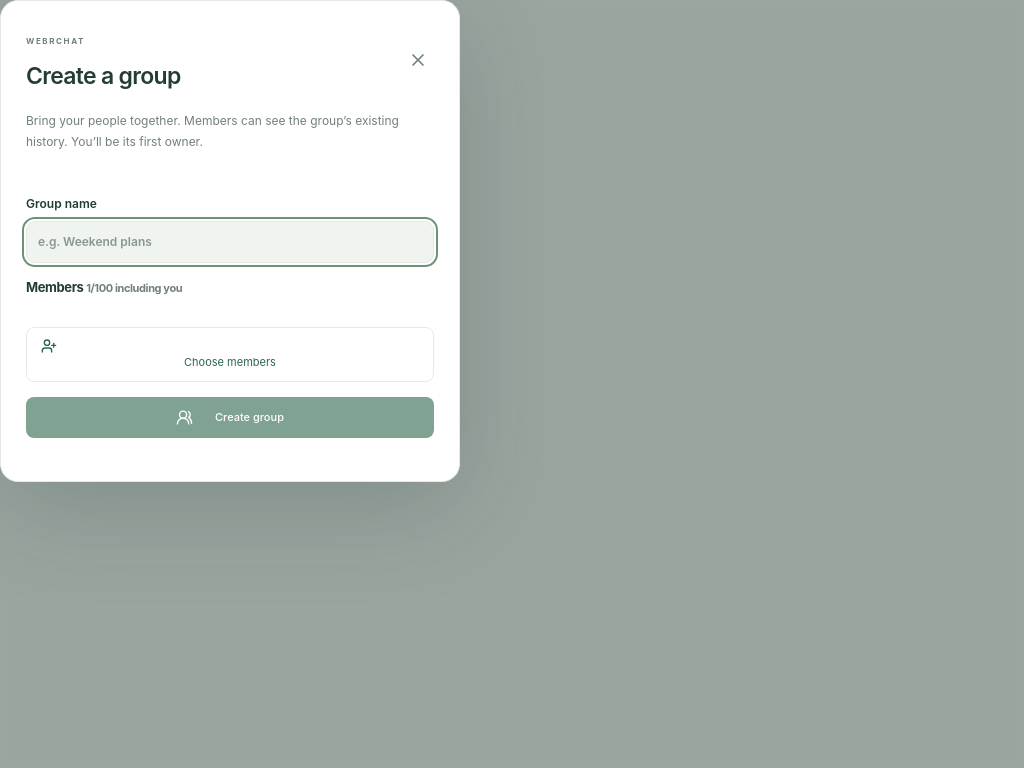
Test: shows creation failures without losing the selected members or name
Step 1. Type "Team" into the field labelled "Group name" → (230,242), box [26,221,434,263]
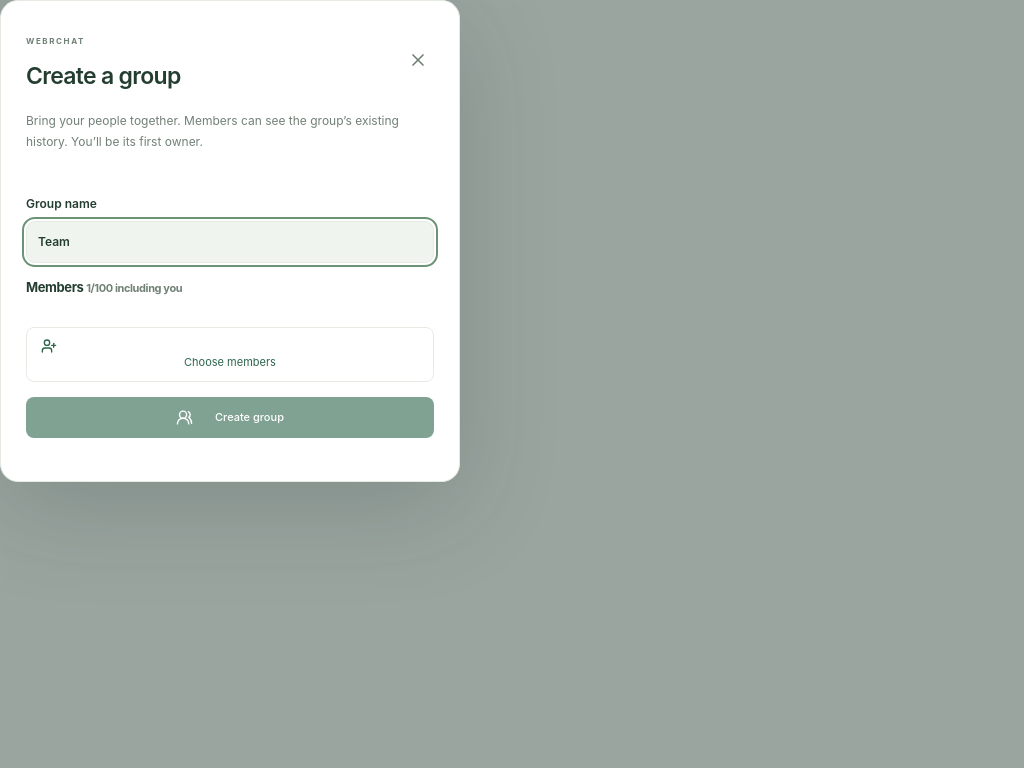
Step 2. Click the button "Choose members" → (230,355), box [26,327,434,382]
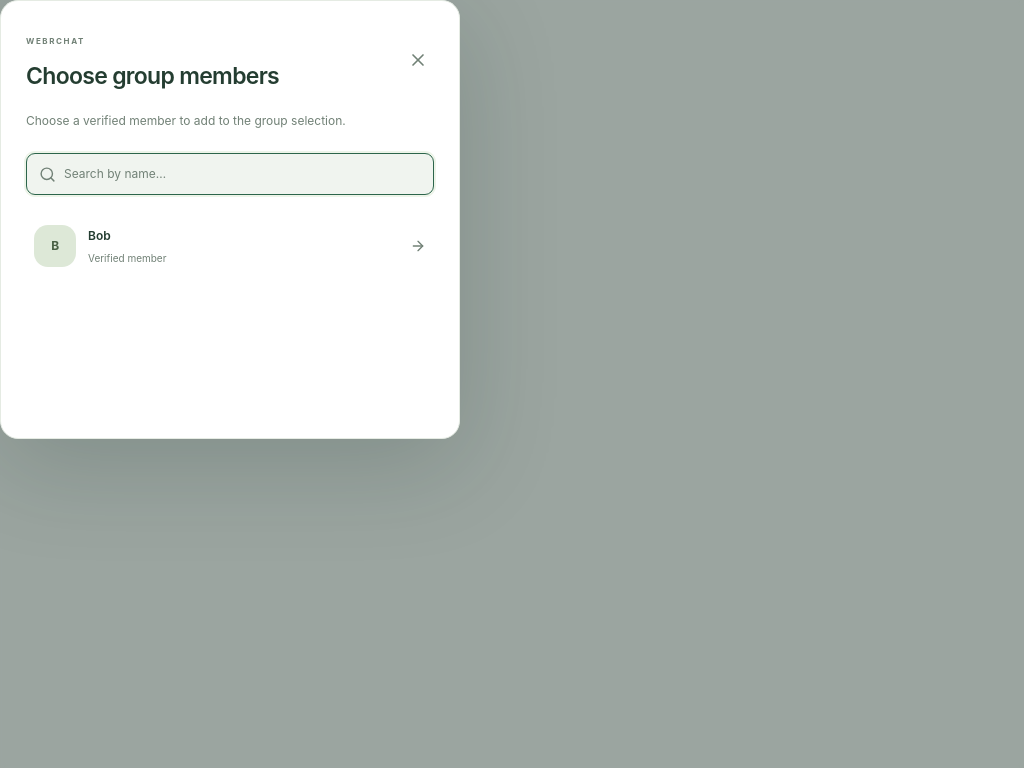
Step 3. Click the button "B Bob Verified member" → (55,246), box [26,213,434,279]
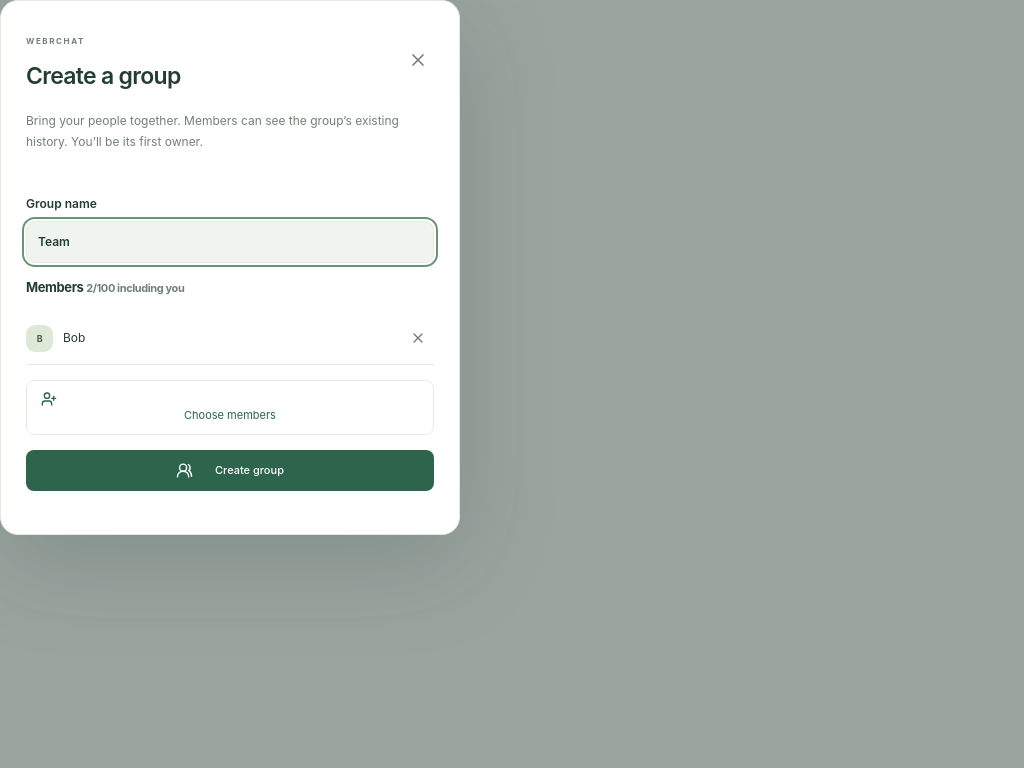
Step 4. Click the button "Create group" → (230,470), box [26,450,434,491]
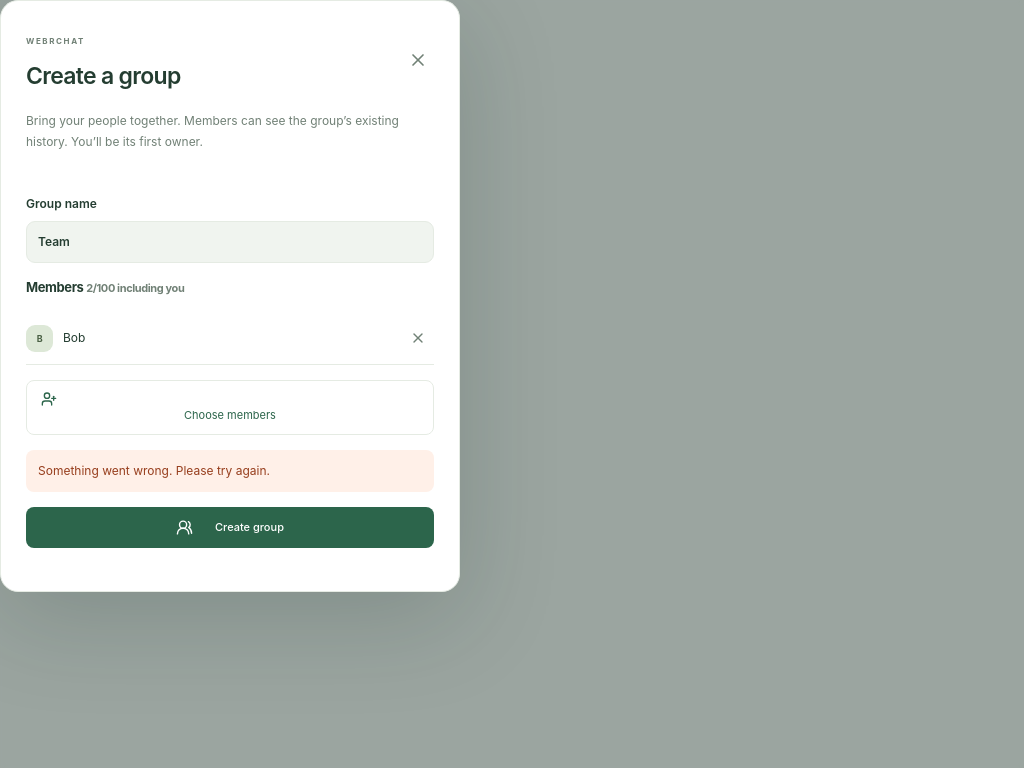
Check: the field labelled "Group name" holds "Team", box [26,221,434,263]
Check: the list named "Selected group members" shows "Bob", box [63,330,85,345]
Check: the message "Something went wrong. Please try again." is shown, box [26,450,434,492]
